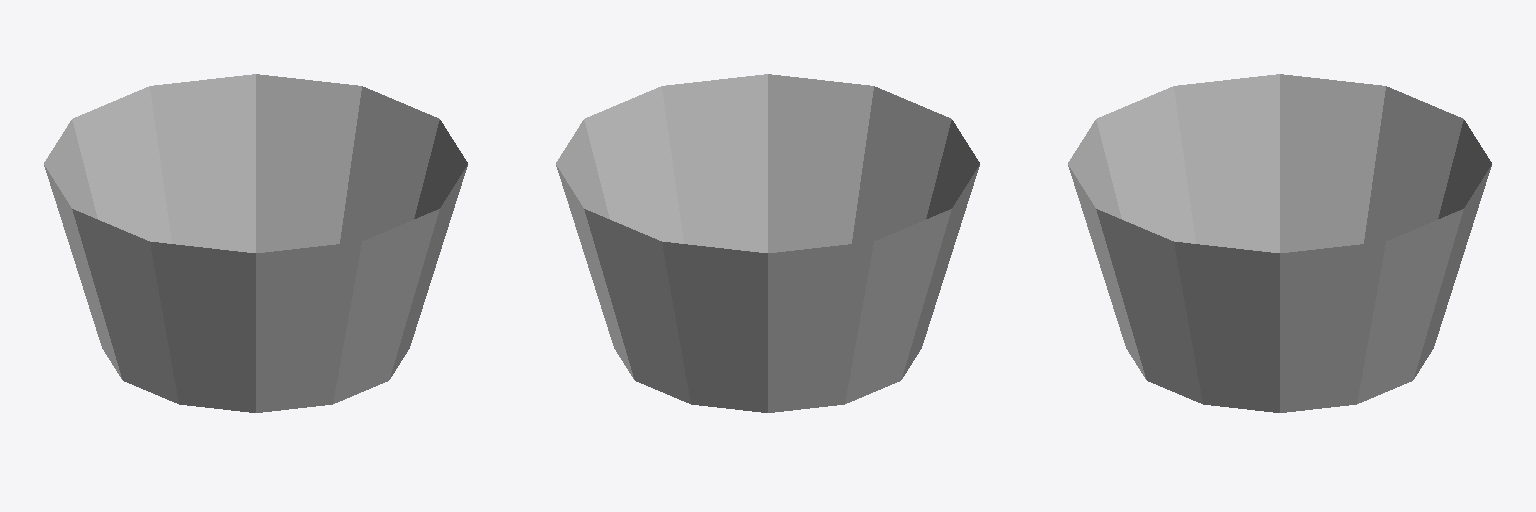
Rendered from Lampenlampe.obj.
3 views of the same model, side by side, from view 1: azimuth 30°, elevation 25°; view 2: azimuth 150°, elevation 25°; view 3: azimuth 270°, elevation 25° (orthographic).
Visible parts, largest first — view 1: Lampenlampe.005_LampWallHanging.017; view 2: Lampenlampe.005_LampWallHanging.017; view 3: Lampenlampe.005_LampWallHanging.017.
Part boxes in pixels (x1,y1,x2,y2): Lampenlampe.005_LampWallHanging.017: (44, 74, 467, 412); Lampenlampe.005_LampWallHanging.017: (556, 74, 979, 412); Lampenlampe.005_LampWallHanging.017: (1068, 74, 1491, 412).
Bounding box in the file's own units: 0.3574 × 0.1713 × 0.3574.